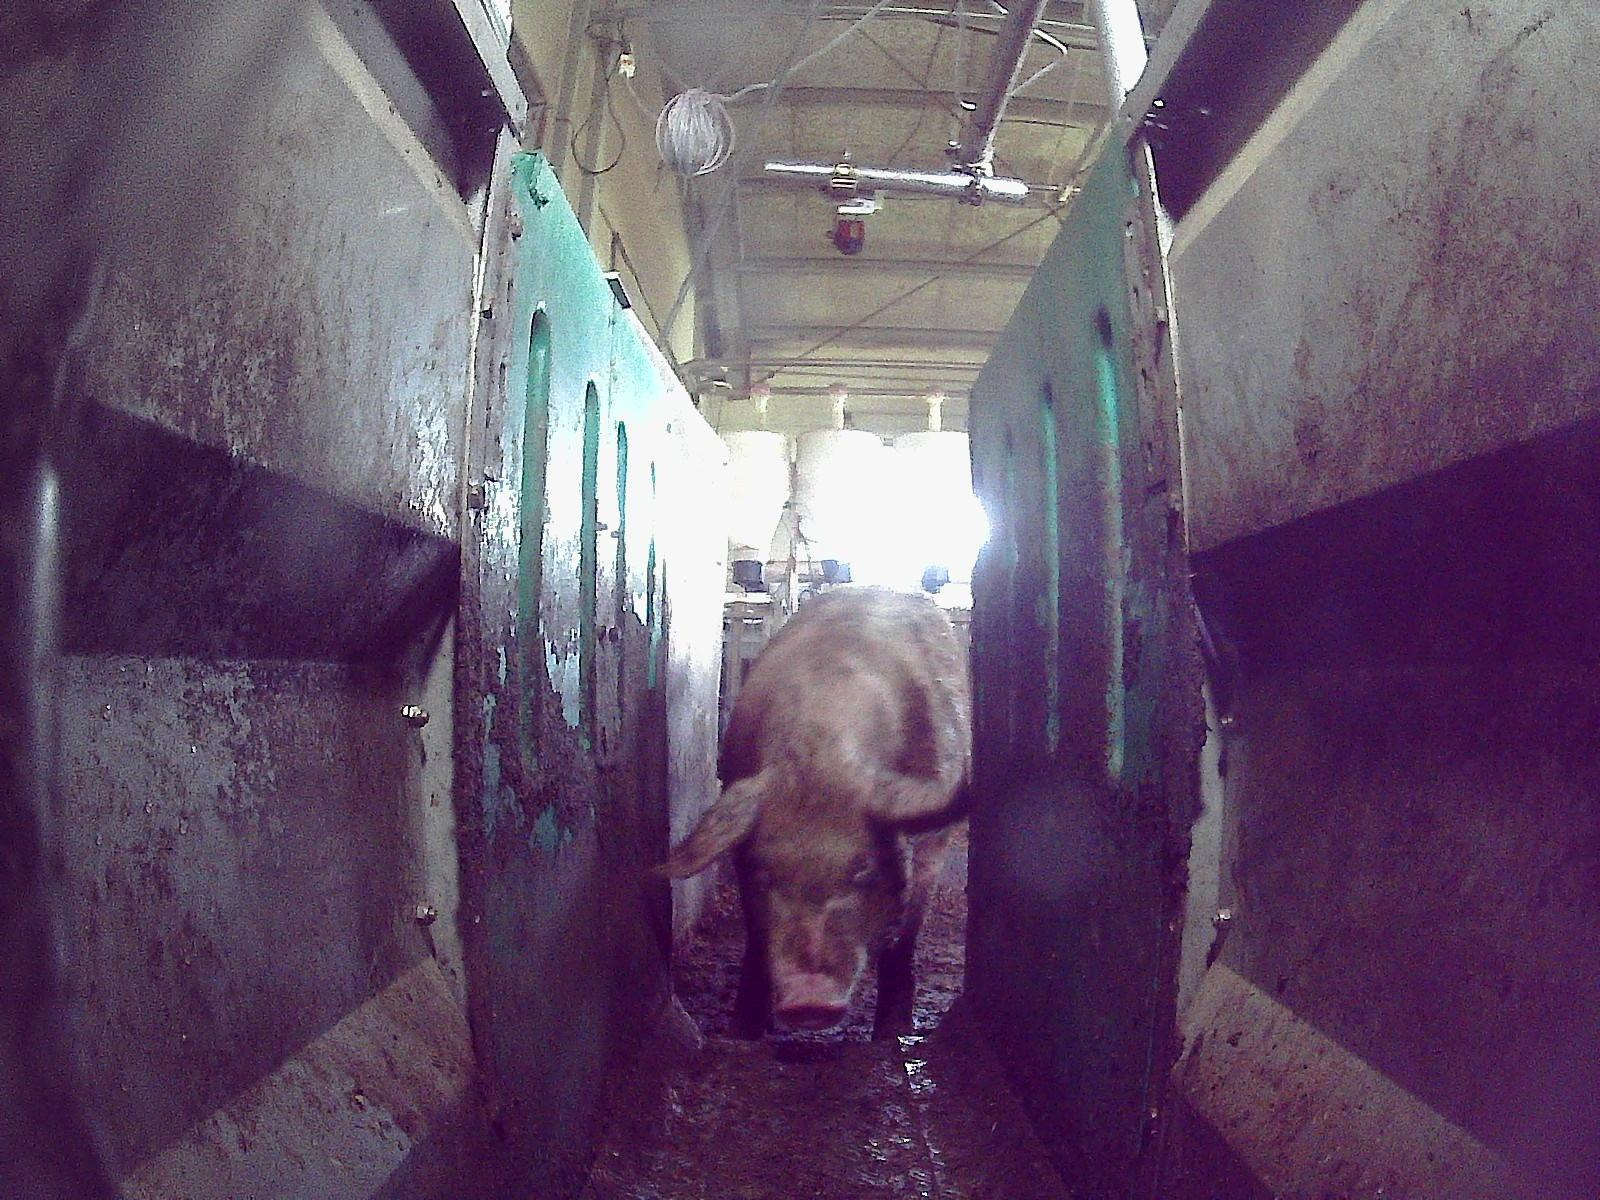Face: (731, 753, 904, 1032)
